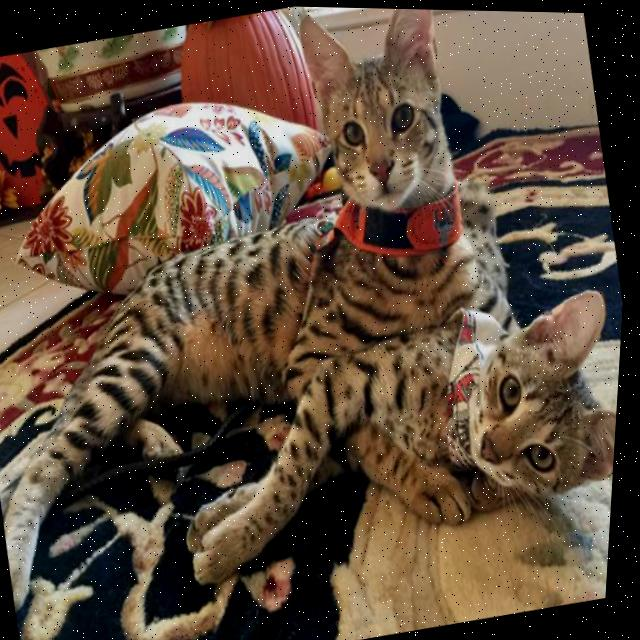Savannah: (19, 1, 540, 413), (151, 266, 628, 599)
